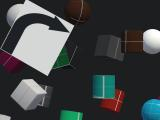Right: (0, 0, 74, 76)
